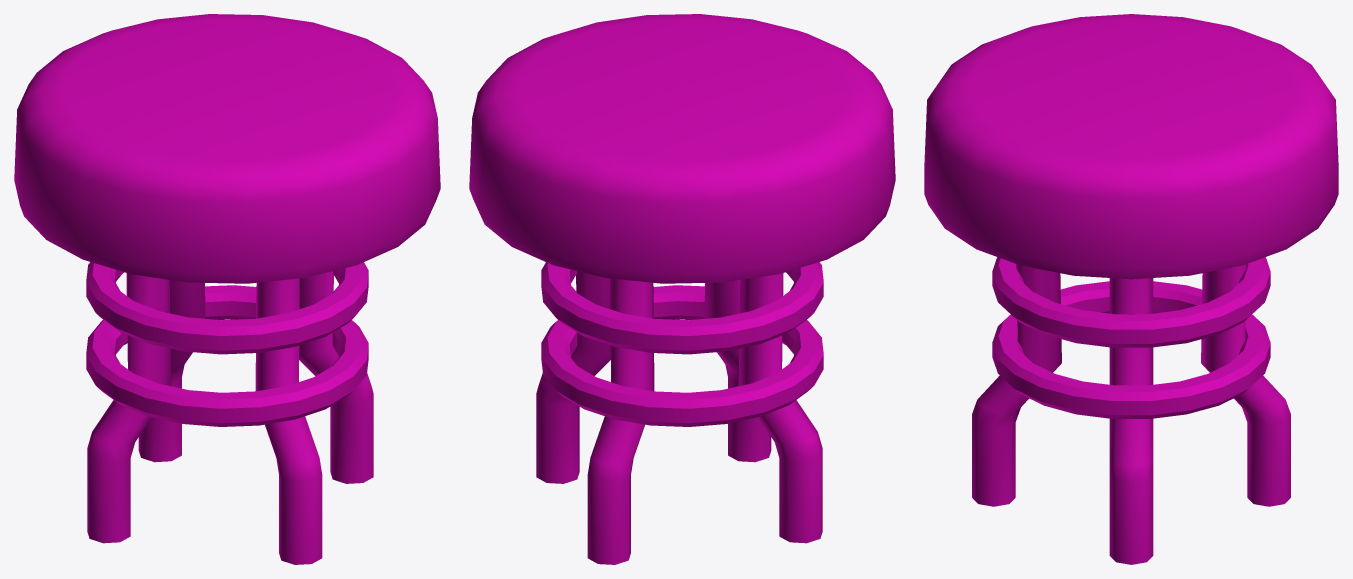
File: SM_Chair01.fbx
The picture shows the model from 3 angles, left to right: view 1: azimuth 30°, elevation 25°; view 2: azimuth 150°, elevation 25°; view 3: azimuth 270°, elevation 25°; orthographic projection.
Visible parts, largest first — view 1: SM_Chair01; view 2: SM_Chair01; view 3: SM_Chair01.
Part boxes in pixels (<box>): SM_Chair01: <box>14,14,440,564</box>; SM_Chair01: <box>469,14,895,564</box>; SM_Chair01: <box>924,14,1338,564</box>.
Bounding box in the file's own units: 100 × 107 × 98.98.
